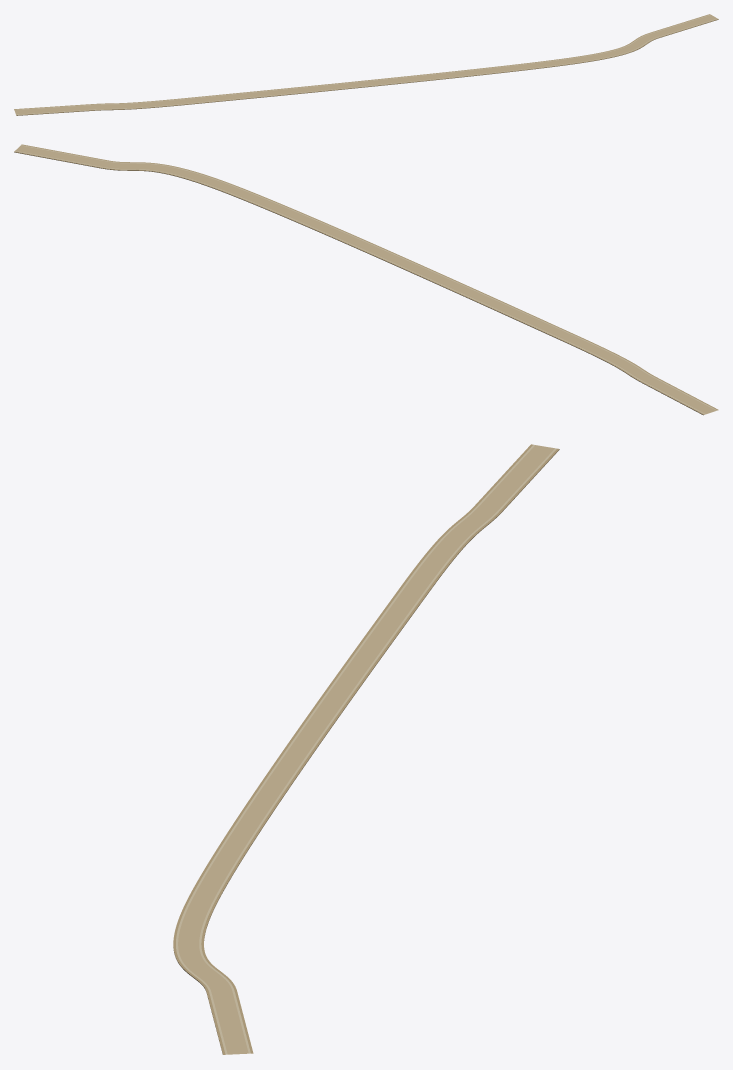
File: road_roam_to2_copper_canyon.glb
3 views of the same model, one above another, from view 1: azimuth 30°, elevation 25°; view 2: azimuth 150°, elevation 25°; view 3: azimuth 270°, elevation 25° (orthographic). The views are drawn at different scales.
Parts seen in each view (by area): view 1: road; view 2: road; view 3: road.
Part boxes in pixels (bbox=[...]): road: bbox=[14, 14, 718, 115]; road: bbox=[14, 144, 718, 415]; road: bbox=[173, 444, 559, 1054].
Bounding box in the file's own units: 566 × 0.32 × 151.
